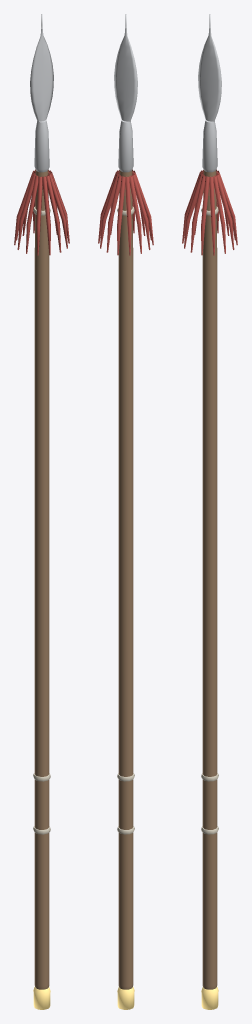
Rendered from lance.glb.
3 renders of one model, left to right at view 1: azimuth 30°, elevation 25°; view 2: azimuth 150°, elevation 25°; view 3: azimuth 330°, elevation 25°, orthographic.
Parts seen in each view (by area): view 1: W-lance; view 2: W-lance; view 3: W-lance.
Boxes of the visible parts, x1,y1,x2,y2 form: W-lance: (14,14,69,1009); W-lance: (98,14,153,1009); W-lance: (182,14,237,1009).
Size of the model in its own units: 0.144 by 2.81 by 0.1405.
